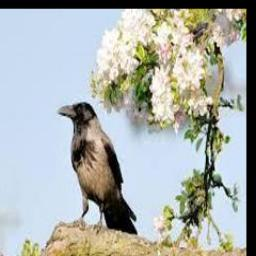Crow: (60, 102, 139, 231)
